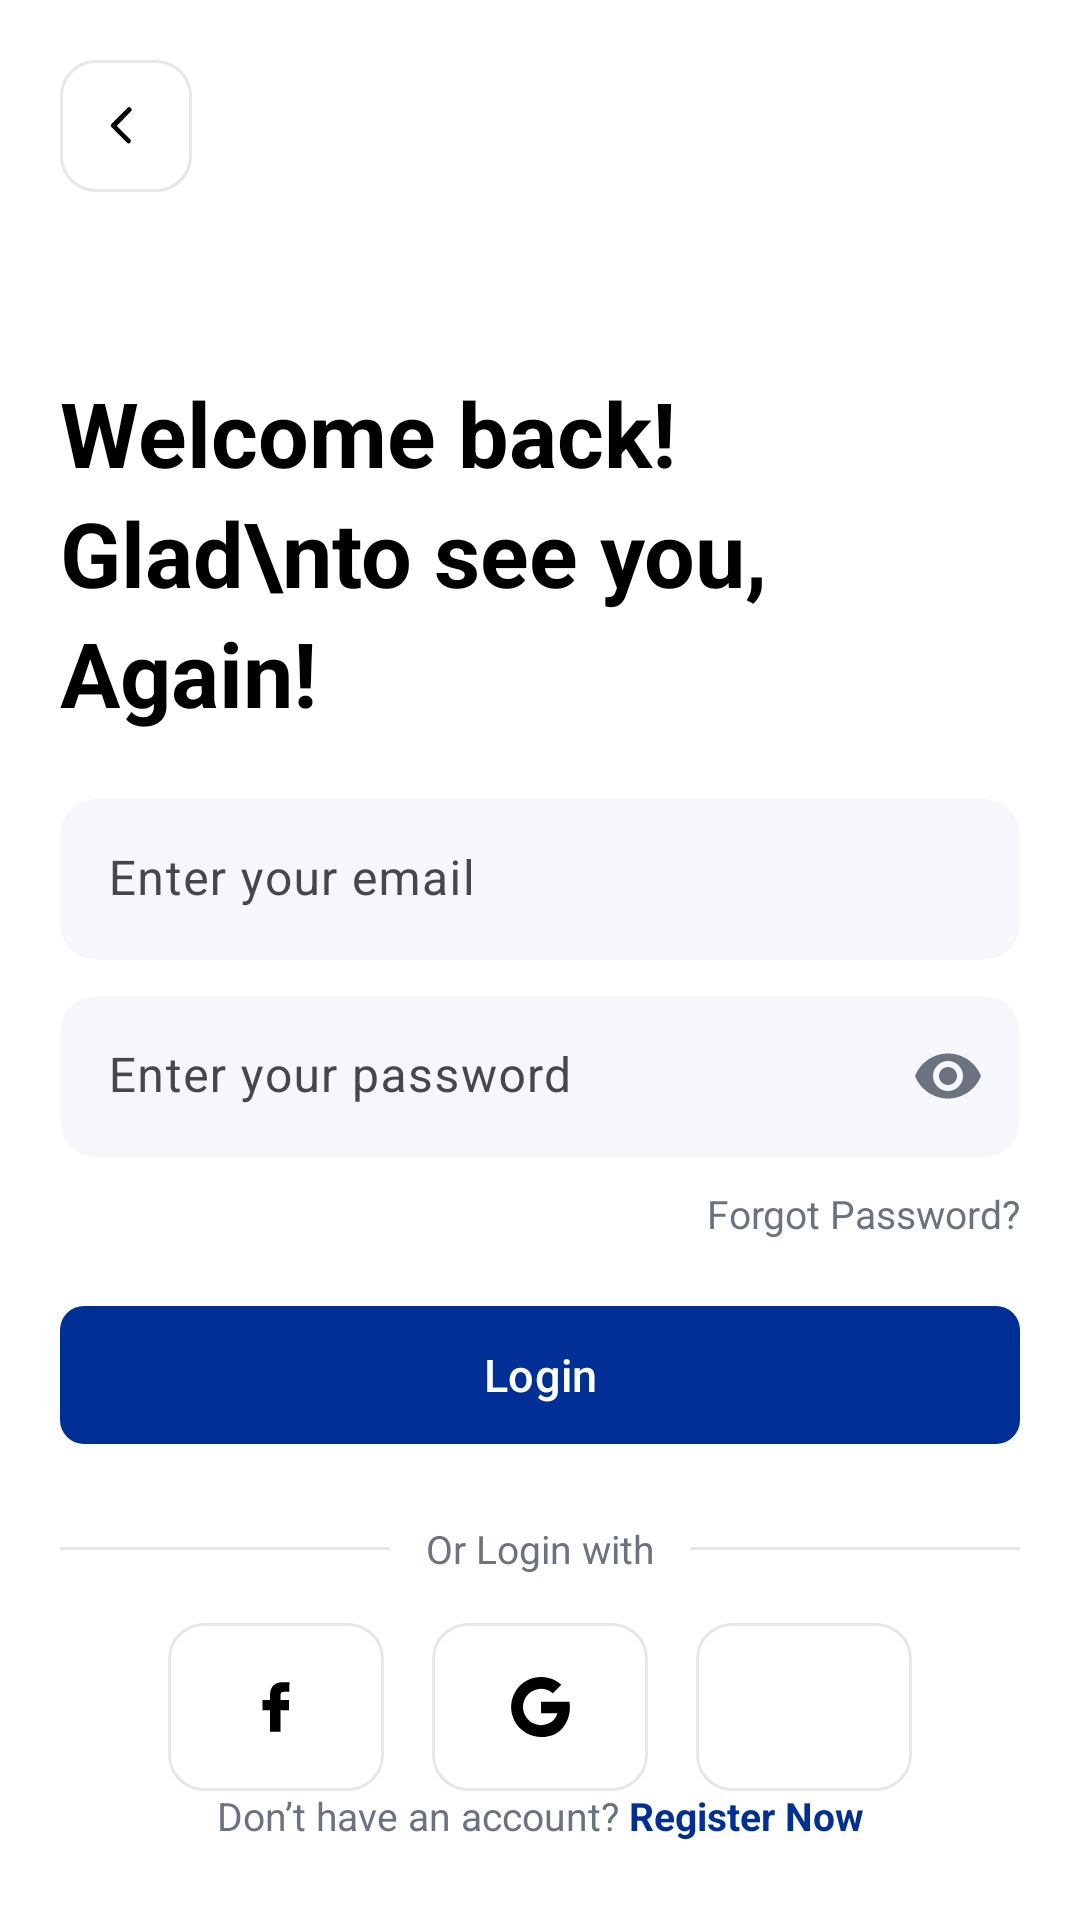

Where icons sit on this 1080w x 1920h app screen, as bbox=(x1, y1, x2, y2):
back: bbox=(60, 60, 192, 192)
